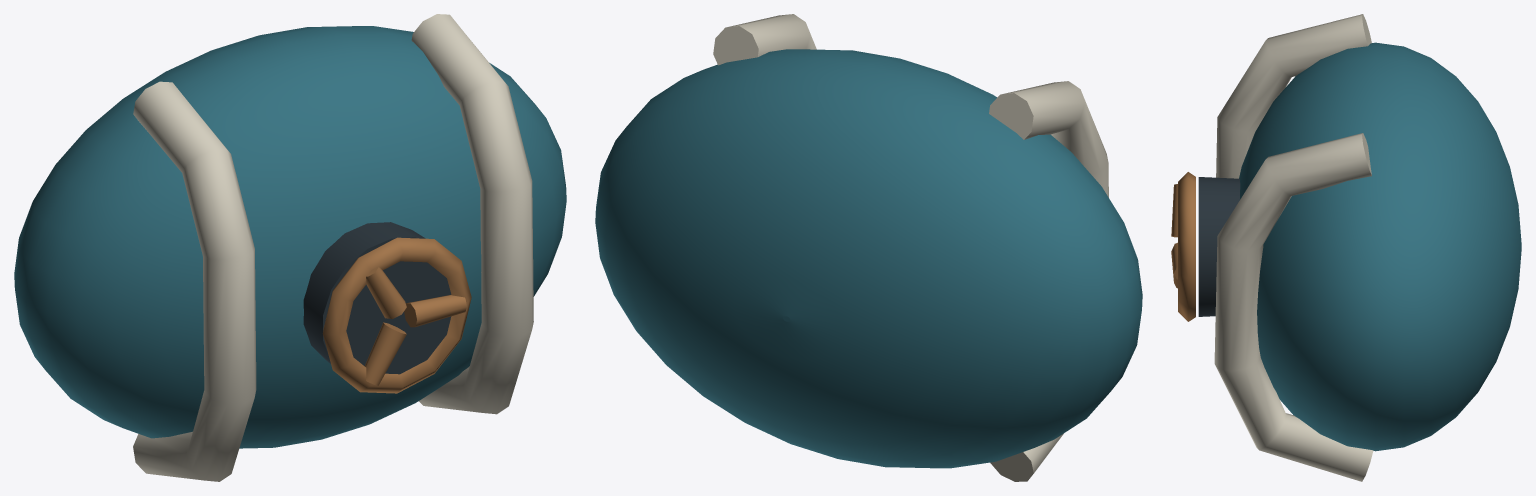
File: boss_ballast.glb
3 views of the same model, side by side, from view 1: azimuth 30°, elevation 25°; view 2: azimuth 150°, elevation 25°; view 3: azimuth 270°, elevation 25° (orthographic). The views are drawn at different scales.
Parts seen in each view (by area): view 1: boss_ballast; view 2: boss_ballast; view 3: boss_ballast.
Part boxes in pixels (left/top/right/bottom): boss_ballast: left=14, top=14, right=566, bottom=481; boss_ballast: left=595, top=14, right=1142, bottom=481; boss_ballast: left=1171, top=14, right=1521, bottom=481.
Bounding box in the file's own units: 2.06 × 1.46 × 1.34.
